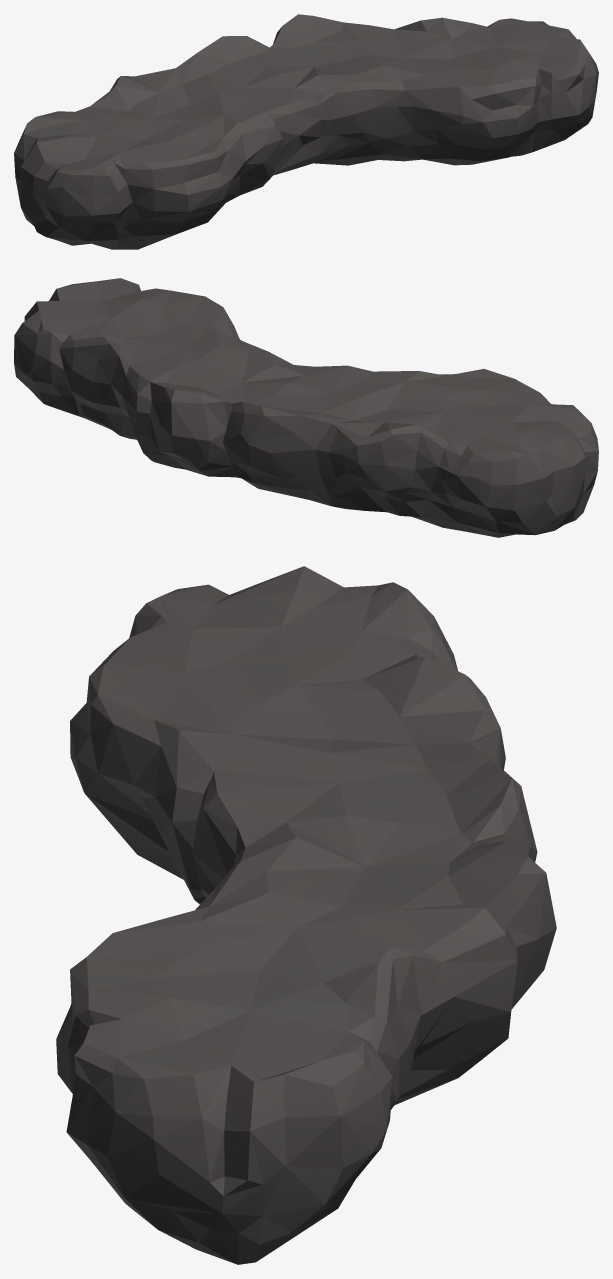
File: ZLPC_Cliff_B_02.FBX
The picture shows the model from 3 angles, top to bottom: view 1: azimuth 30°, elevation 25°; view 2: azimuth 150°, elevation 25°; view 3: azimuth 270°, elevation 25°; orthographic projection. The views are drawn at different scales.
Parts seen in each view (by area): view 1: ZLPC_Cliff_B_02; view 2: ZLPC_Cliff_B_02; view 3: ZLPC_Cliff_B_02.
Boxes of the visible parts, x1,y1,x2,y2 form: ZLPC_Cliff_B_02: [14, 14, 598, 249]; ZLPC_Cliff_B_02: [14, 278, 598, 537]; ZLPC_Cliff_B_02: [56, 566, 556, 1264].
Bounding box in the file's own units: 1671 × 385 × 662.
Materials: 1 (1 with a texture image).
